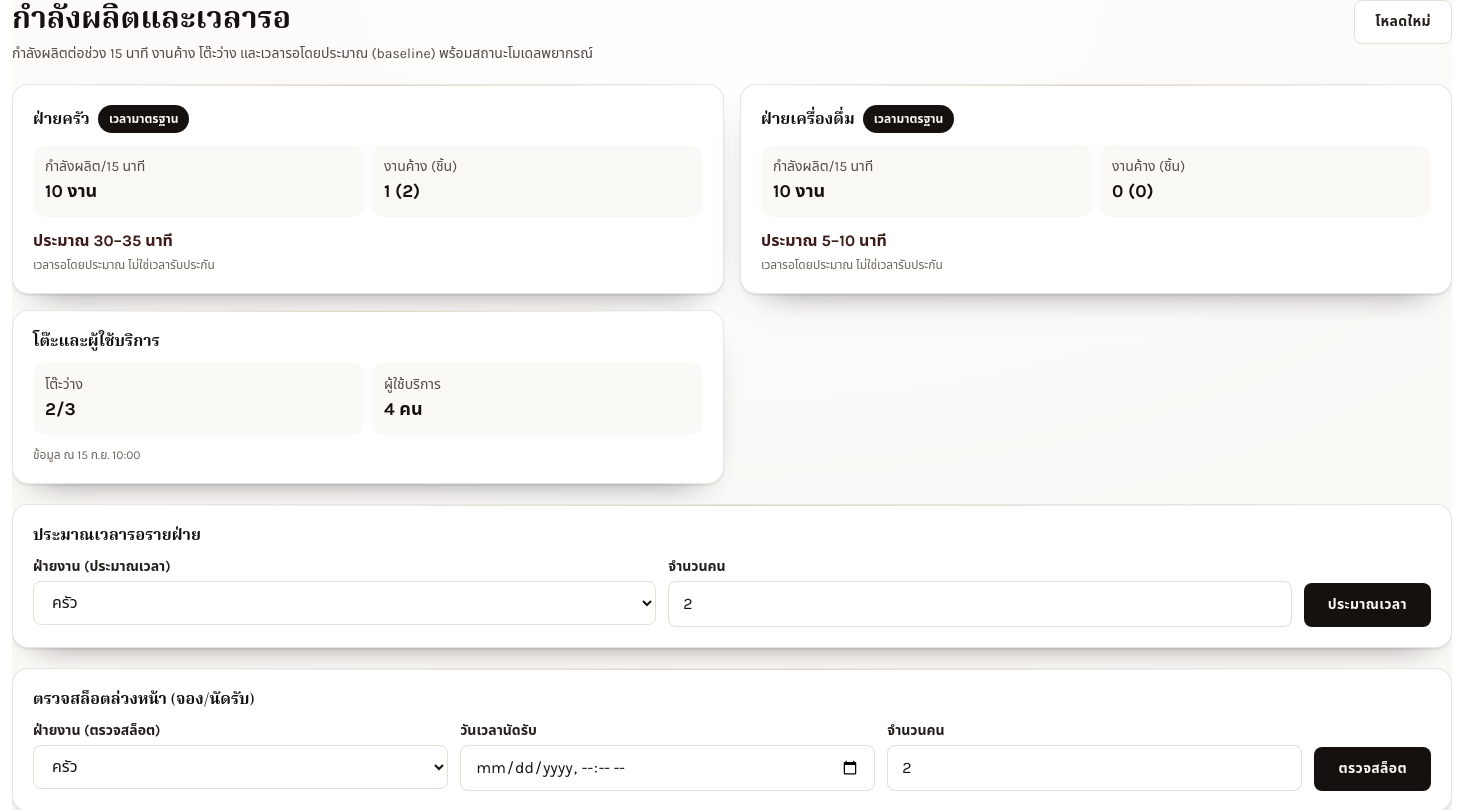
it: Dashboard กำลังผลิตและเวลารอ (Ticket 13, ภาษาไทย) › สล็อตเต็มแสดงช่วงถัดไปที่ว่าง
Check: the heading "ฝ่ายครัว" is shown, box [33,108,90,128]
Type "2026-09-15T12:00" into the field labelled "วันเวลานัดรับ". click: (668, 768)
box: [460,744,875,790]
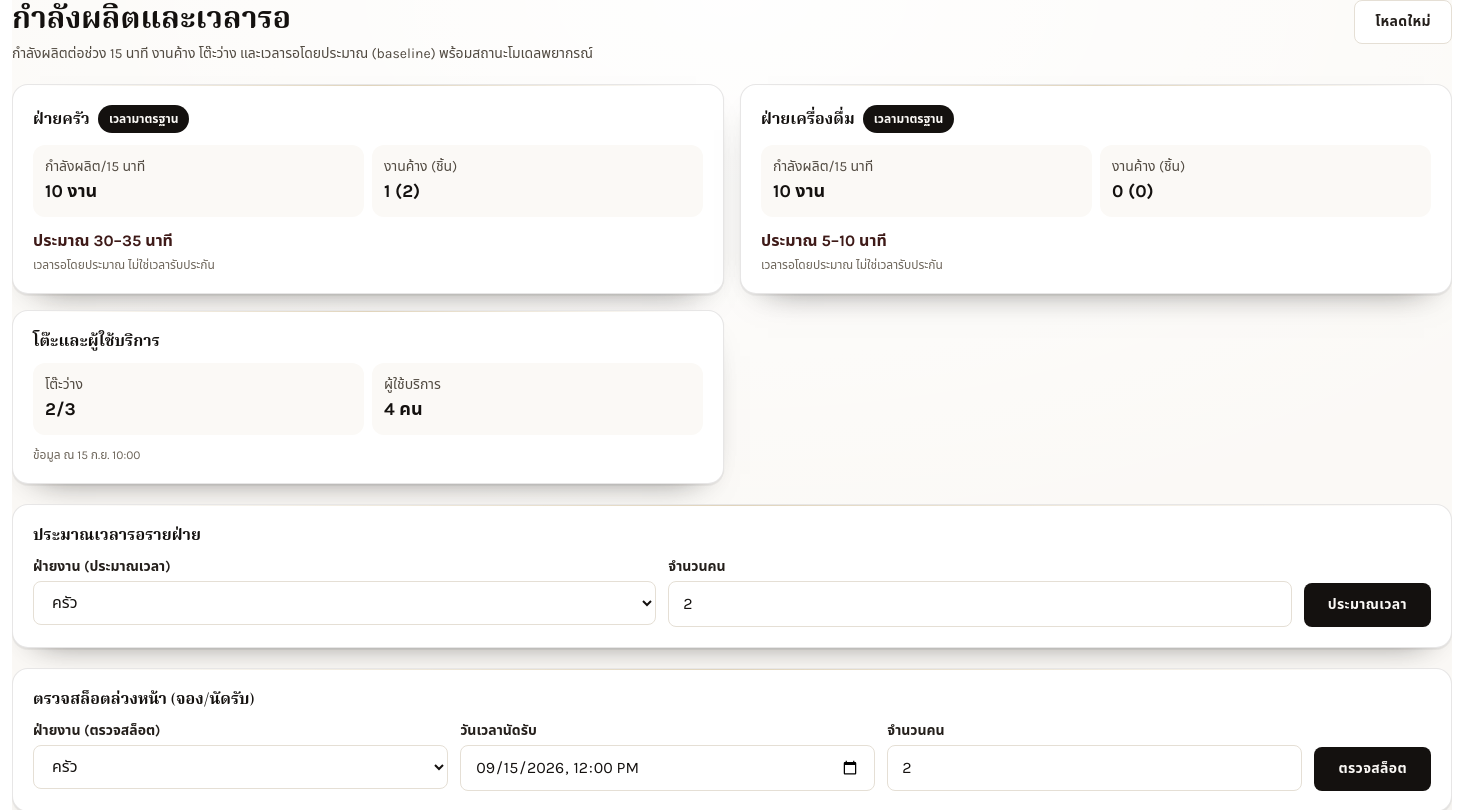
Click the button "ตรวจสล็อต". click: click(1373, 768)
box: [1314,746,1431,790]
(page scrolled)
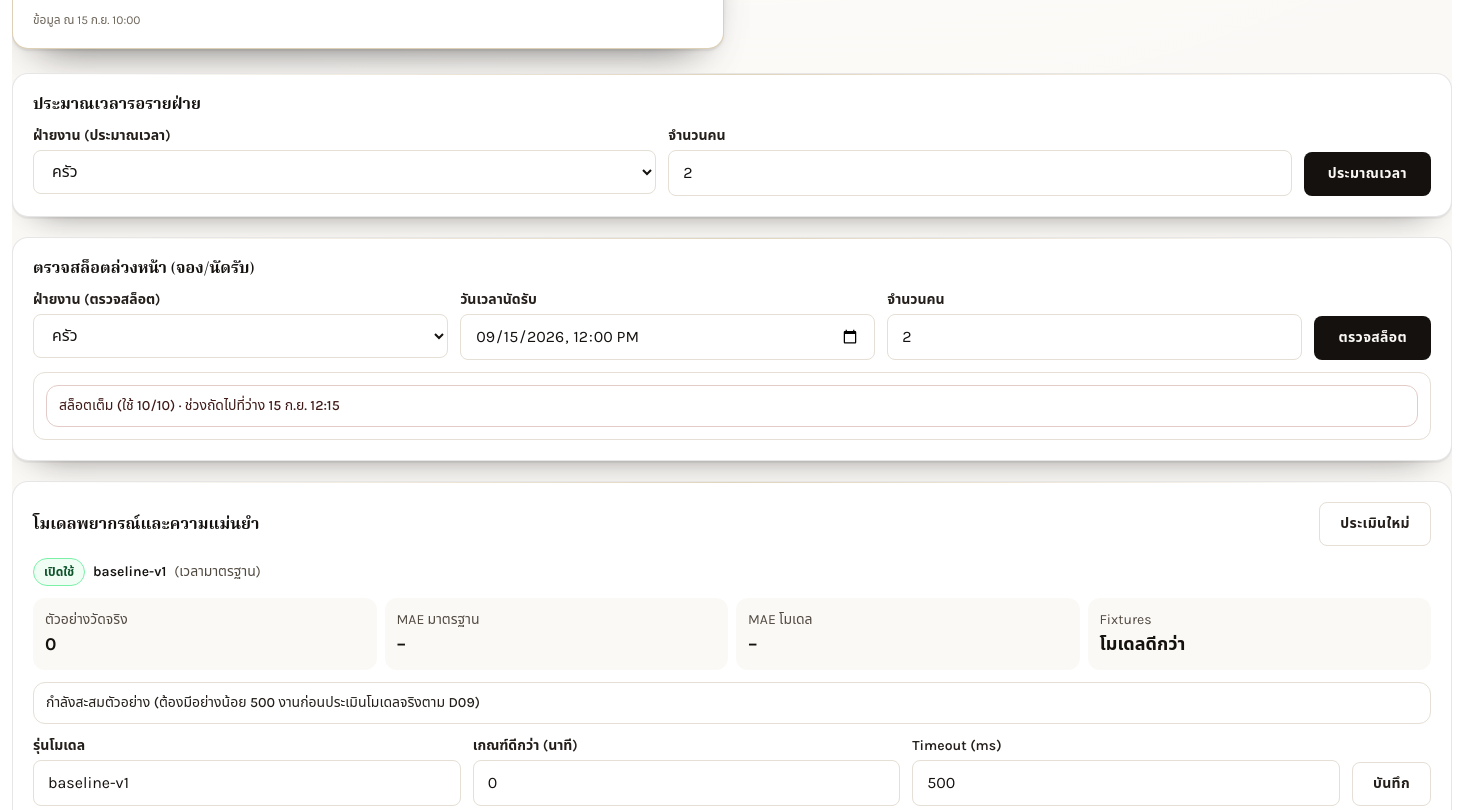
Check: the text "สล็อตเต็ม (ใช้ 10/10) · ช่วงถัดไปที่ว่าง 15 ก.ย. 12:15" is shown, box [46,384,1418,426]
